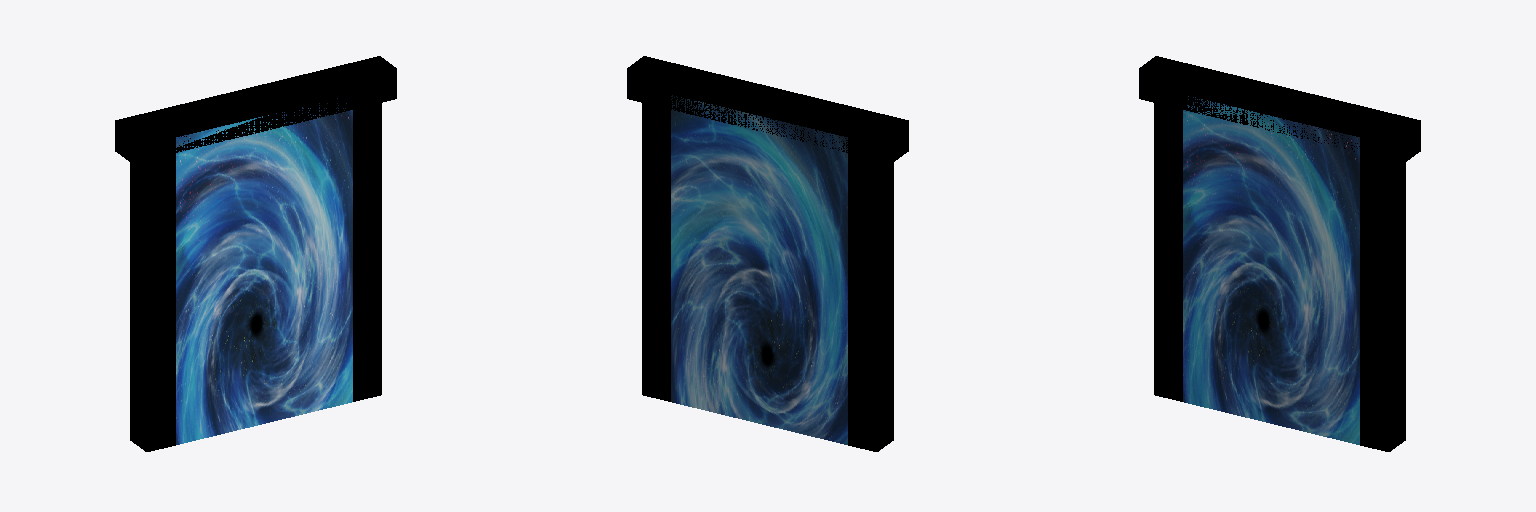
The picture shows the model from 3 angles: view 1: azimuth 30°, elevation 25°; view 2: azimuth 150°, elevation 25°; view 3: azimuth 330°, elevation 25°; orthographic projection.
Visible parts, largest first — view 1: pCube3, pCube5, pCube4, pCube6; view 2: pCube3, pCube5, pCube4, pCube6; view 3: pCube3, pCube6, pCube4, pCube5.
Boxes of the visible parts, <box> form: pCube3: <box>176,98,352,444</box>; pCube5: <box>130,138,175,451</box>; pCube4: <box>115,56,396,163</box>; pCube6: <box>353,87,381,401</box>; pCube3: <box>671,95,847,444</box>; pCube5: <box>848,138,893,451</box>; pCube4: <box>627,56,908,163</box>; pCube6: <box>642,87,670,401</box>; pCube3: <box>1183,96,1359,444</box>; pCube6: <box>1360,138,1405,451</box>; pCube4: <box>1139,56,1420,163</box>; pCube5: <box>1154,87,1182,401</box>.
Bounding box in the file's own units: 9 × 10.5 × 1.
2 materials, 1 textured.